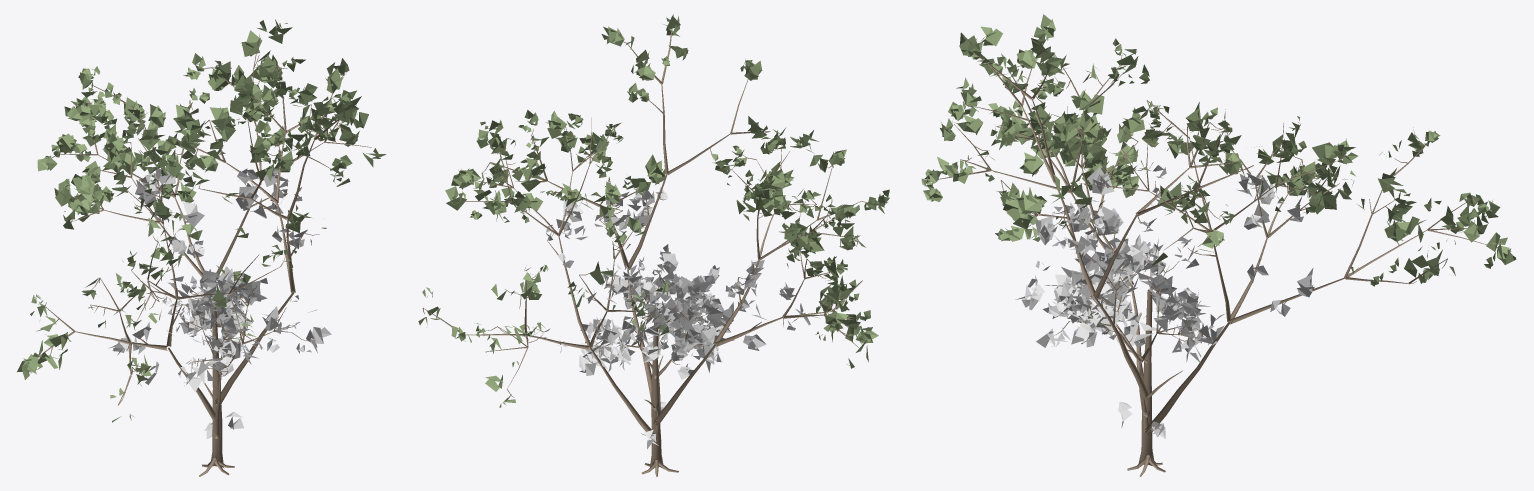
Rendered from tree-a-close.glb.
3 renders of one model, left to right at view 1: azimuth 30°, elevation 25°; view 2: azimuth 150°, elevation 25°; view 3: azimuth 270°, elevation 25°, orthographic. The views are drawn at different scales.
Visible parts, largest first — view 1: leaf, leafDeep, wood; view 2: leaf, leafDeep, wood; view 3: leaf, leafDeep, wood.
Part boxes in pixels (bbox=[...]): leaf: bbox=[17, 19, 386, 422]; leafDeep: bbox=[108, 167, 331, 438]; wood: bbox=[37, 34, 371, 476]; leaf: bbox=[418, 15, 889, 407]; leafDeep: bbox=[541, 187, 820, 449]; wood: bbox=[422, 14, 878, 476]; leaf: bbox=[921, 14, 1516, 286]; leafDeep: bbox=[1015, 165, 1314, 438]; wood: bbox=[931, 52, 1498, 476].
Bounding box in the file's own units: 20.01 × 20.09 × 23.56.
